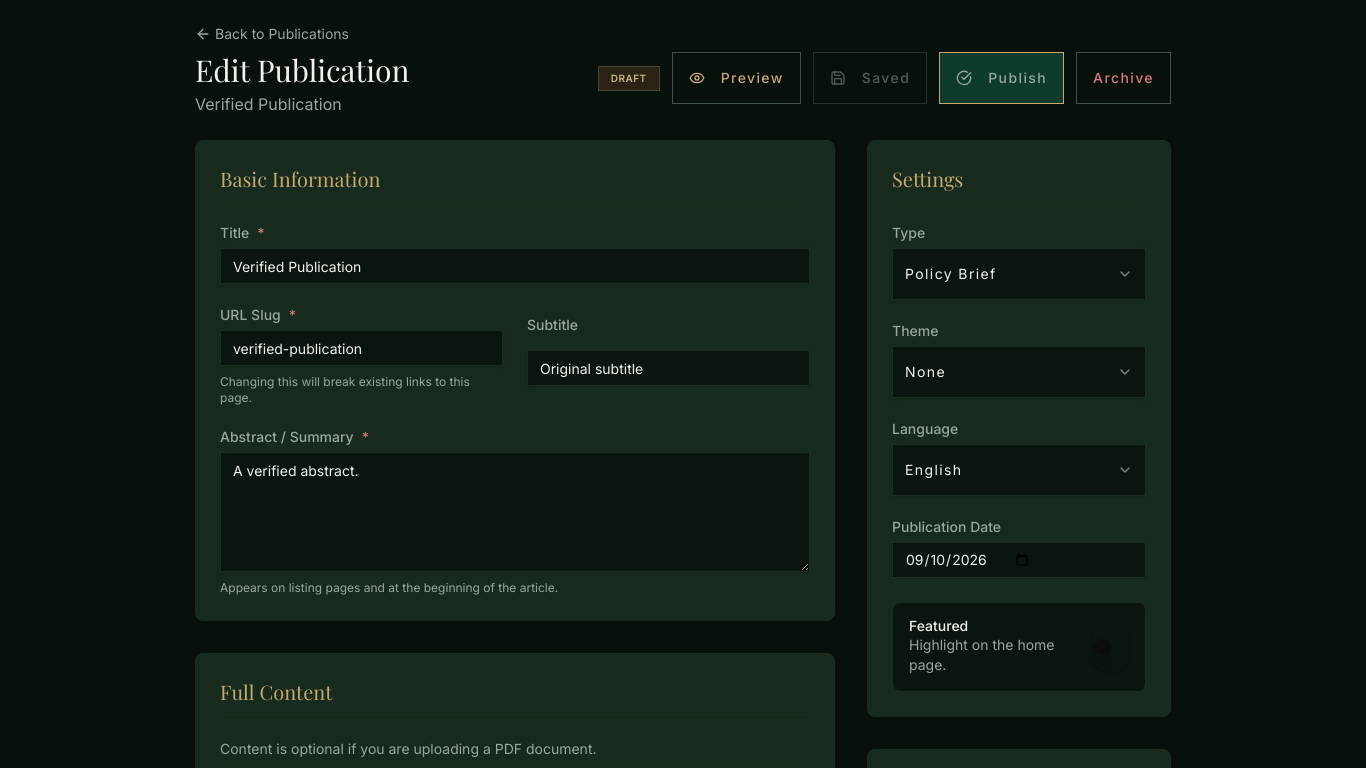
AdminPublicationEdit › loads the existing record and exposes unsaved changes
The width and height of the screenshot is (1366, 768).
Expected: the text "Verified Publication" is shown, left=195, top=94, right=342, bottom=114
Replace the text in the field labelled "Subtitle" with "Reviewed subtitle". click: {"x": 668, "y": 368}
box: left=527, top=350, right=810, bottom=386
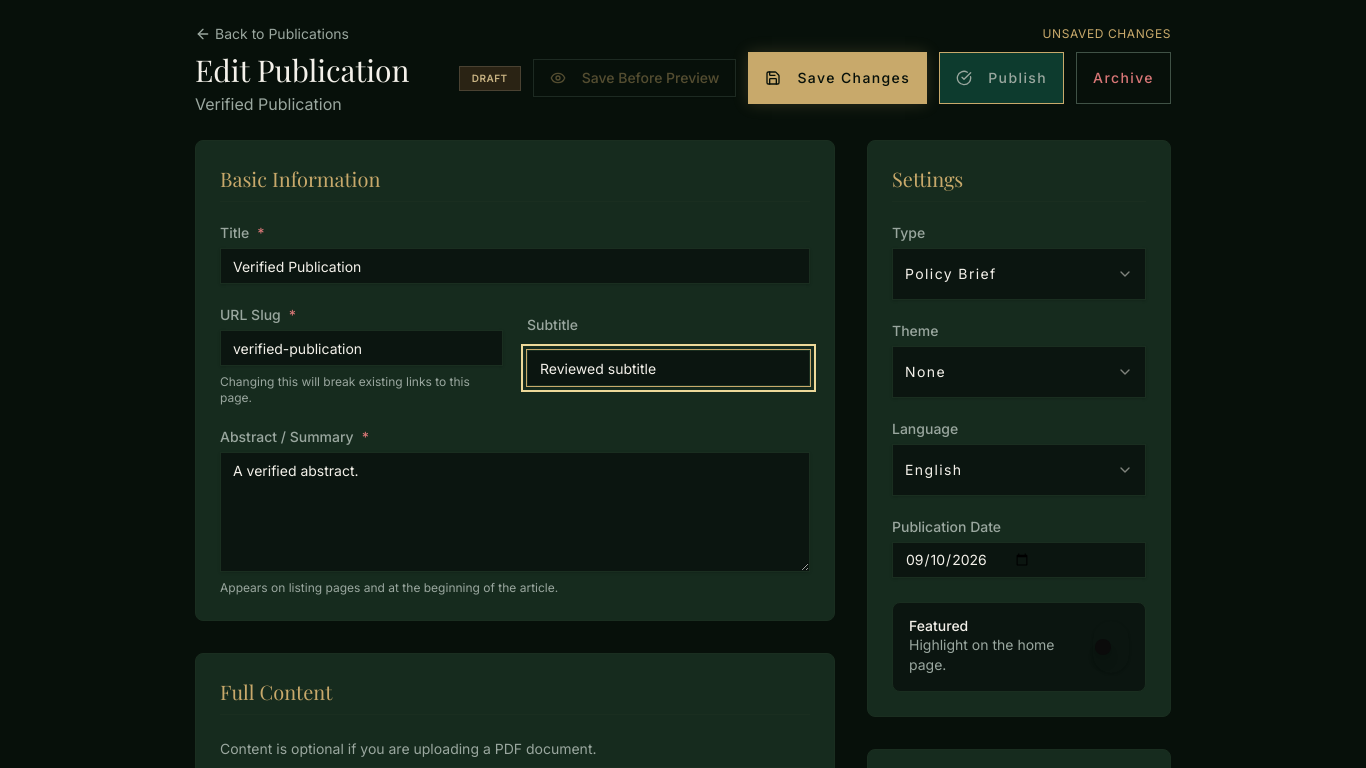
Result: the text "Unsaved Changes" is shown at left=1042, top=26, right=1171, bottom=42
Result: the button "Save Changes" is enabled at left=748, top=52, right=927, bottom=104
